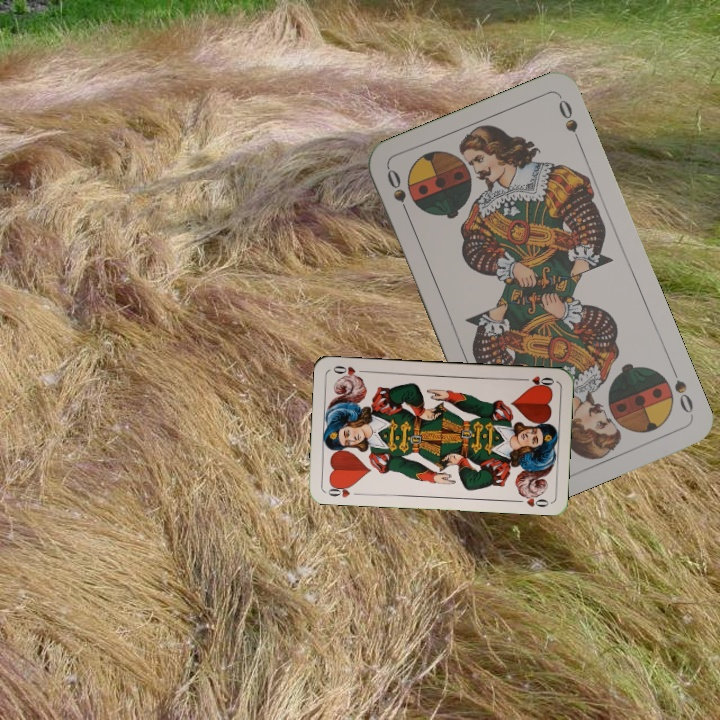HO: (323, 480, 363, 500), (517, 372, 557, 390)
SO: (382, 164, 413, 221), (667, 362, 696, 419)
